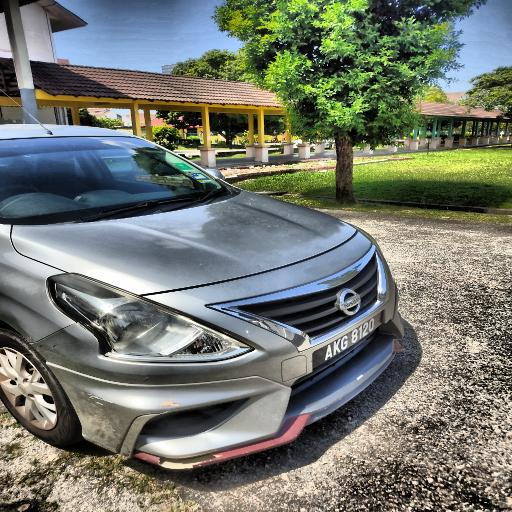license_plate: (304, 302, 390, 374)
